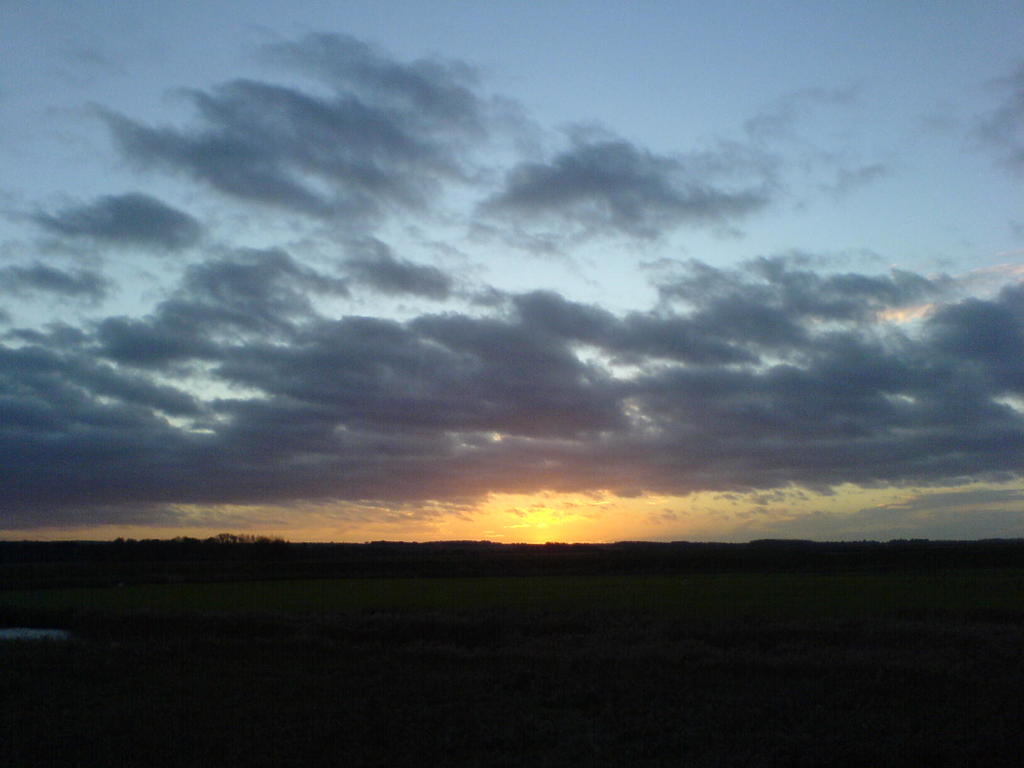Tree: (214, 526, 284, 538)
